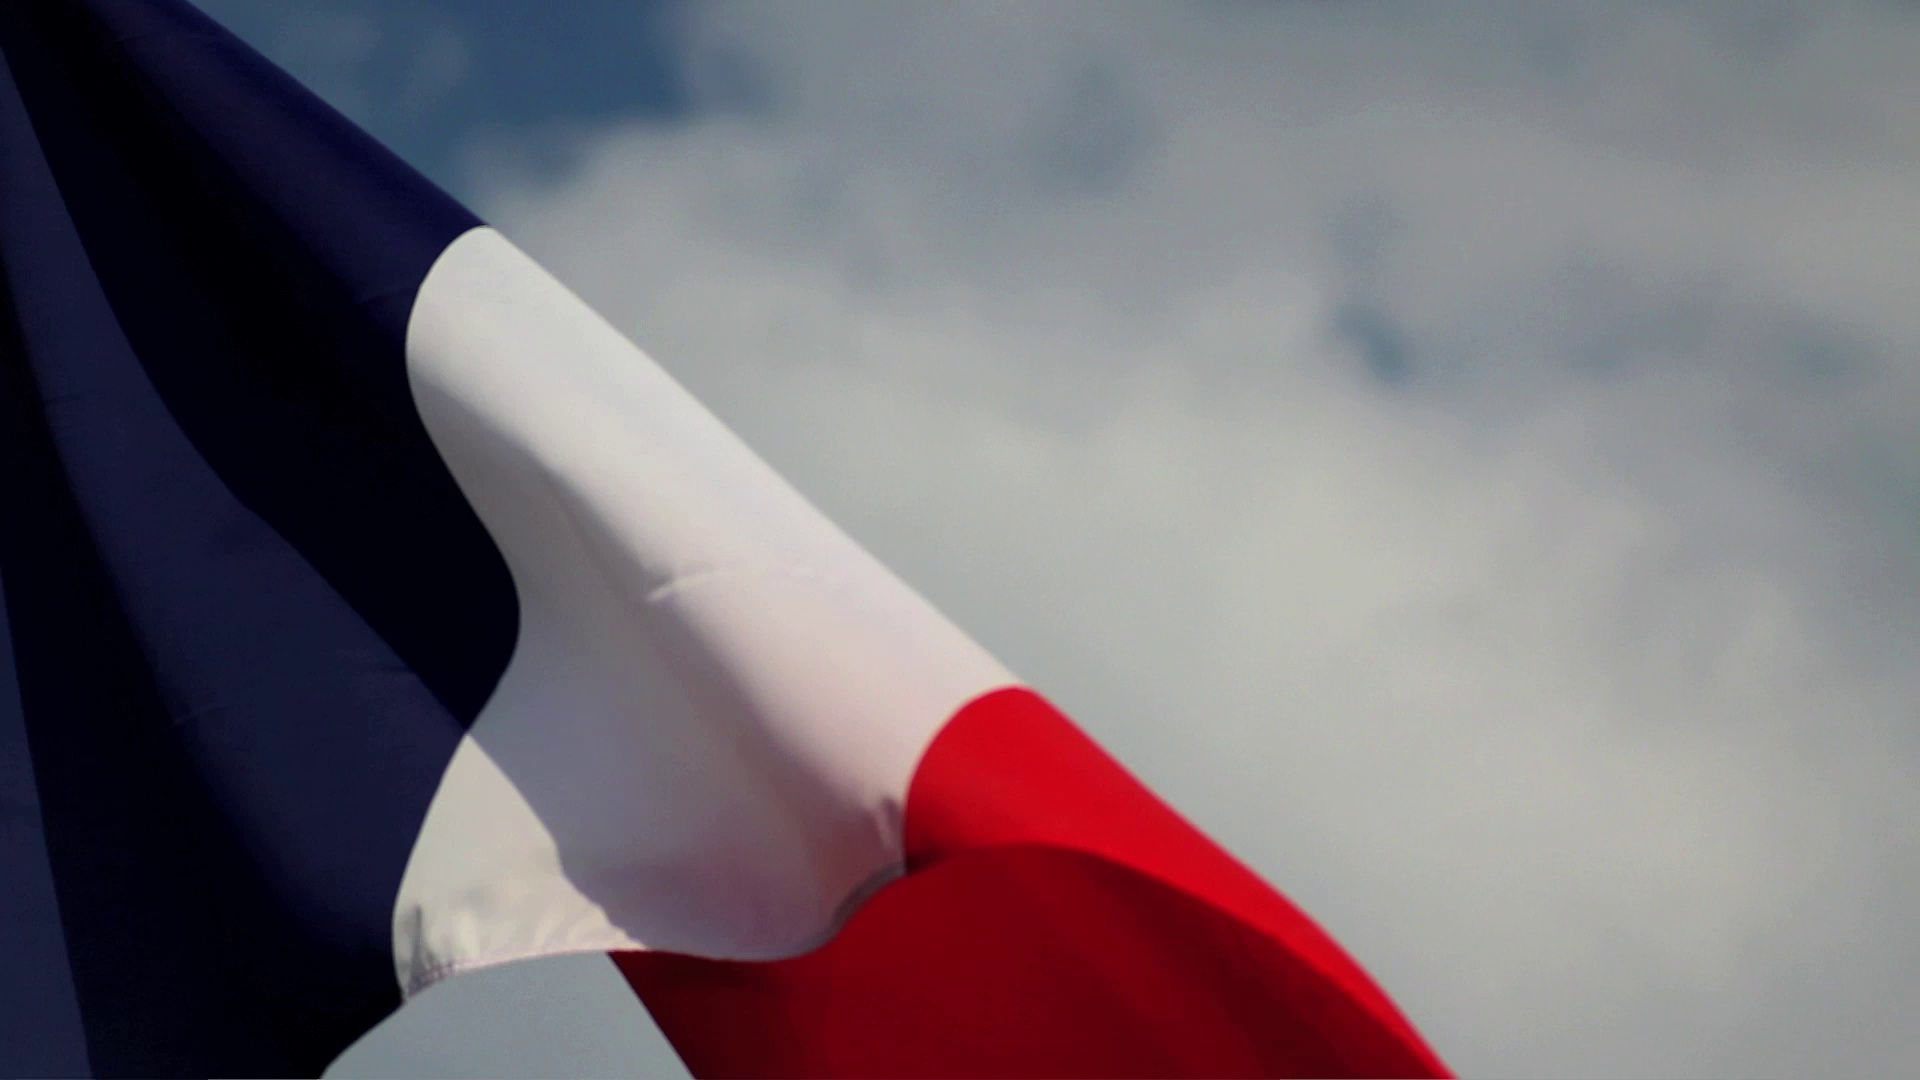French Flag: (1, 1, 1462, 1079)
